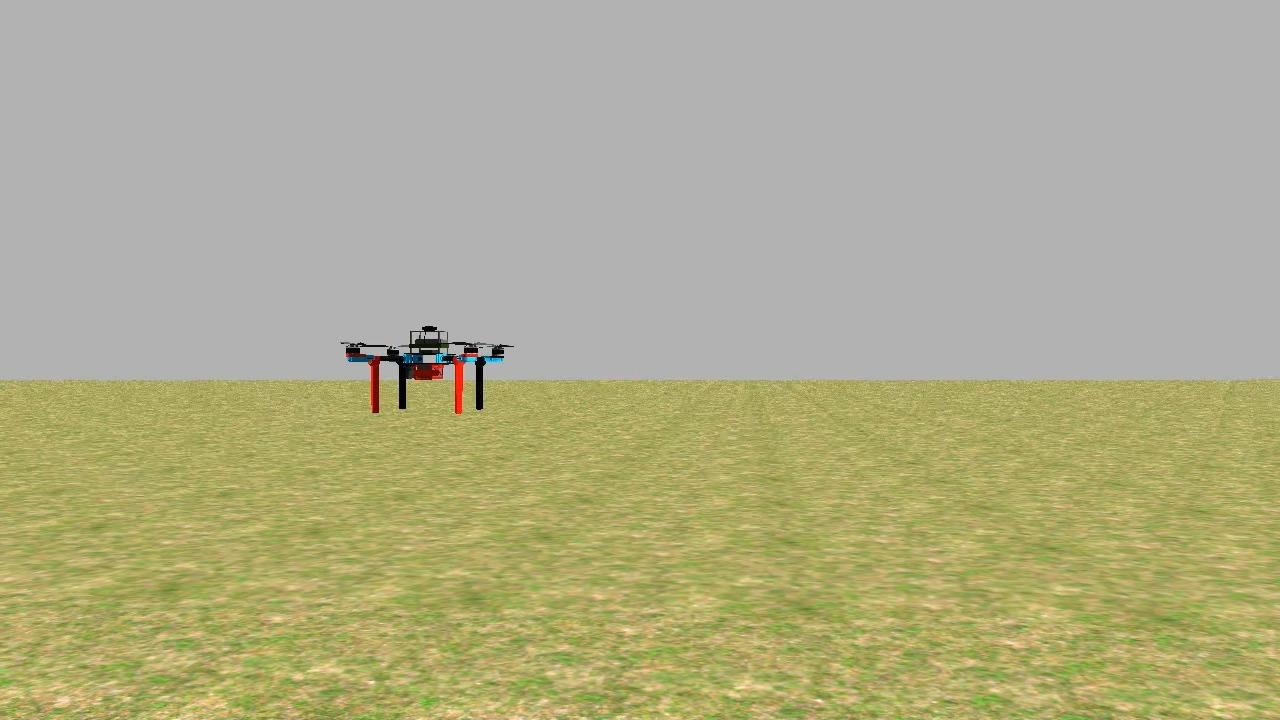UAV: (333, 308, 513, 423)
